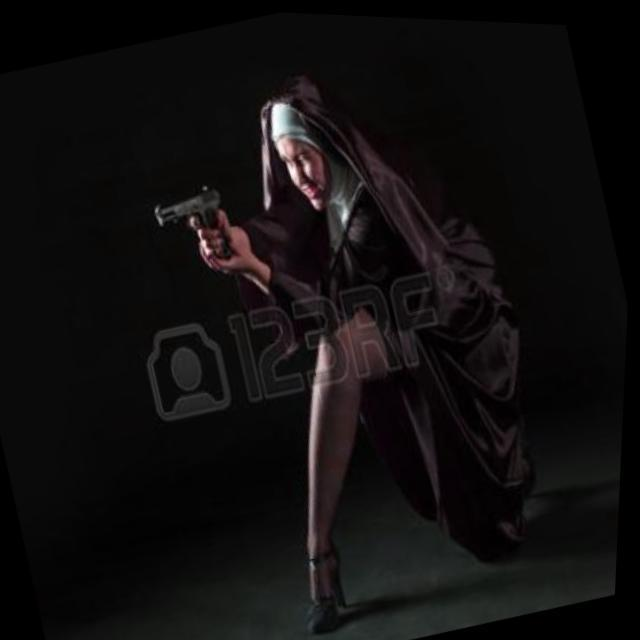weapon: (139, 170, 256, 284)
